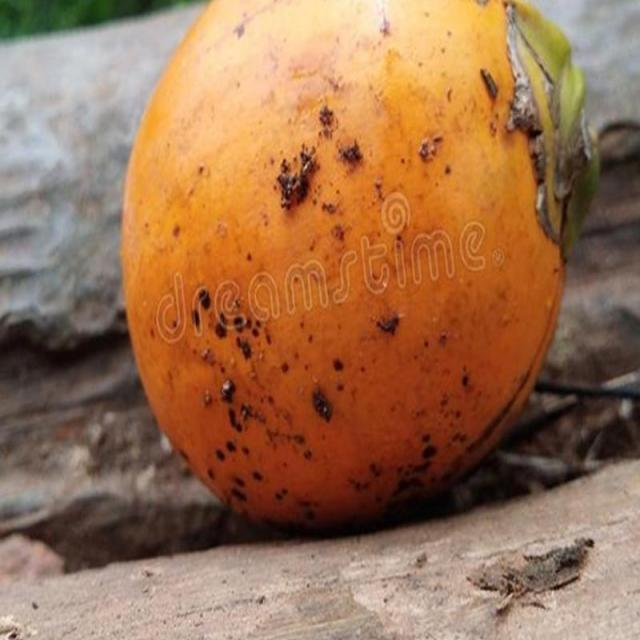good: (118, 0, 601, 539)
